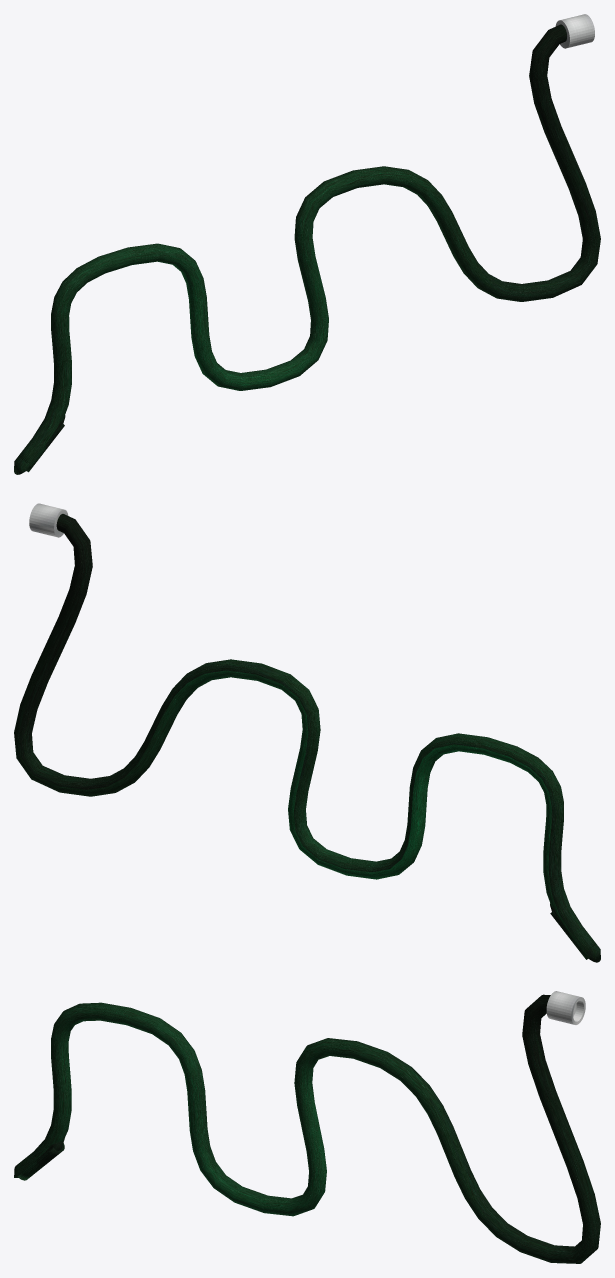
Rendered from Manguera.fbx.
3 renders of one model, top to bottom at view 1: azimuth 30°, elevation 25°; view 2: azimuth 150°, elevation 25°; view 3: azimuth 330°, elevation 25°, orthographic.
Parts seen in each view (by area): view 1: BézierCurve, Cylinder; view 2: BézierCurve, Cylinder; view 3: BézierCurve, Cylinder.
Boxes of the visible parts, x1=… form: BézierCurve: x1=14, y1=24, x2=600, y2=474; Cylinder: x1=555, y1=14, x2=594, y2=48; BézierCurve: x1=14, y1=514, x2=600, y2=962; Cylinder: x1=29, y1=503, x2=68, y2=537; BézierCurve: x1=14, y1=994, x2=600, y2=1263; Cylinder: x1=546, y1=991, x2=585, y2=1024.
Bounding box in the file's own units: 448 × 234 × 23.03.
2 materials, 2 textured.
